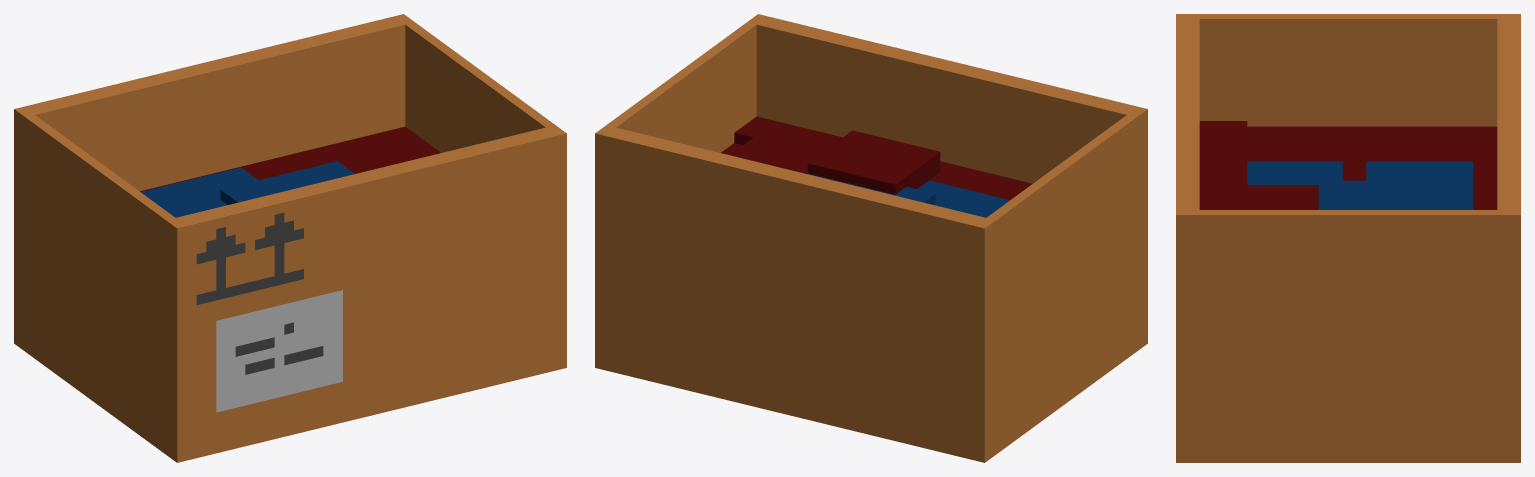
The model's file is carboard opened.obj.
3 views of the same model, side by side, from view 1: azimuth 30°, elevation 25°; view 2: azimuth 150°, elevation 25°; view 3: azimuth 270°, elevation 25° (orthographic). The views are drawn at different scales.
Visible parts, largest first — view 1: carboard opened; view 2: carboard opened; view 3: carboard opened.
Boxes of the visible parts, <box> form: carboard opened: <box>14,14,566,462</box>; carboard opened: <box>595,14,1147,462</box>; carboard opened: <box>1176,14,1520,462</box>.
Size of the model in its own units: 40 by 23 by 29.
Materials: 1 (1 with a texture image).
